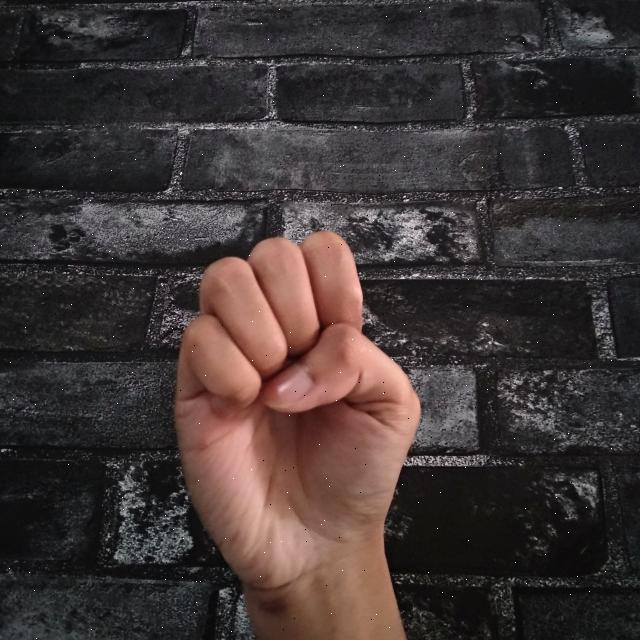S: (162, 225, 431, 640)
